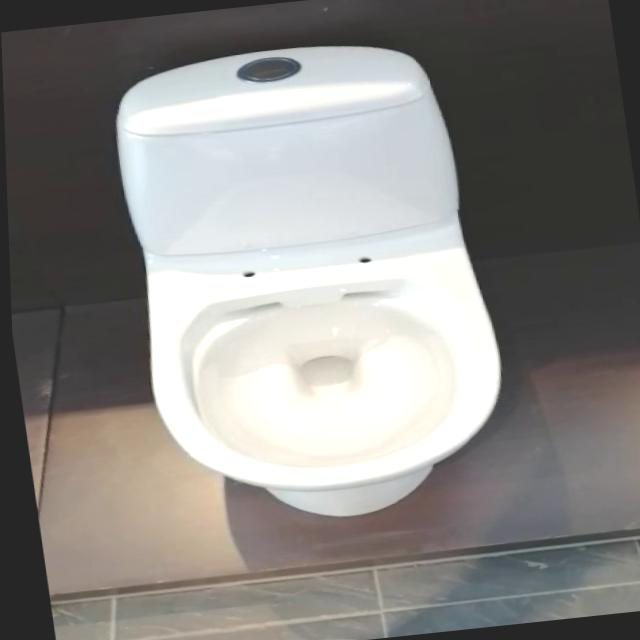toilet: (100, 29, 517, 536)
